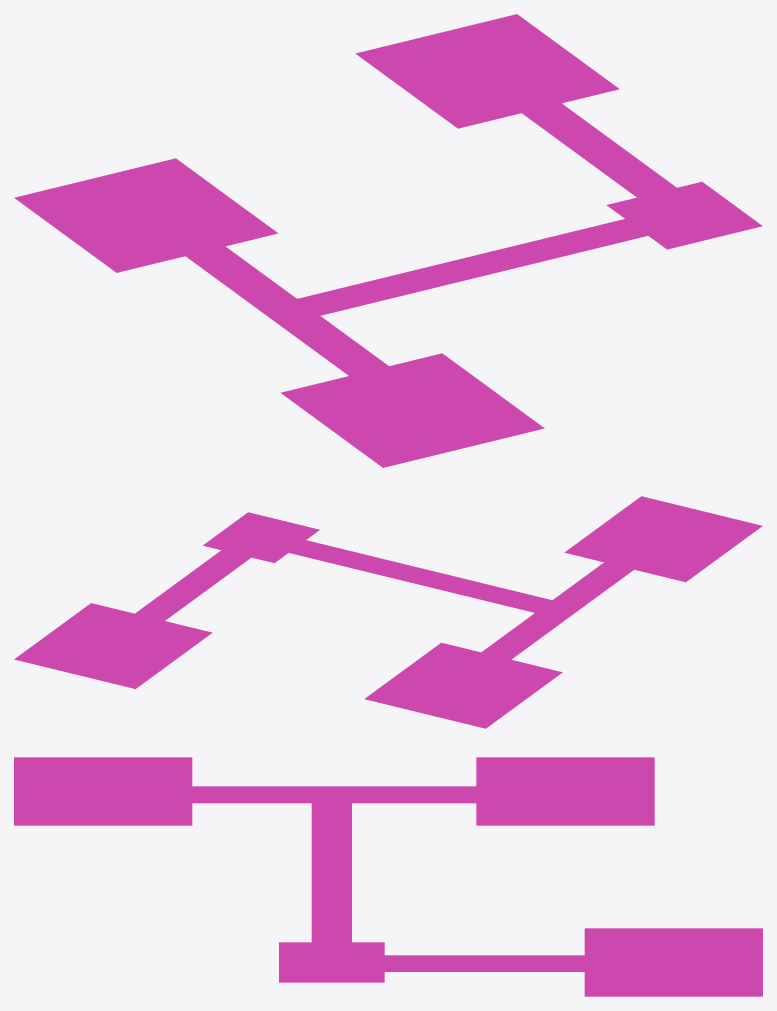
The model's file is envr_test3.glb.
The picture shows the model from 3 angles, top to bottom: view 1: azimuth 30°, elevation 25°; view 2: azimuth 150°, elevation 25°; view 3: azimuth 270°, elevation 25°; orthographic projection. The views are drawn at different scales.
Parts seen in each view (by area): view 1: Plane.003, Plane.006, Plane.005, Plane, Plane.004, Plane.001, Plane.002; view 2: Plane.003, Plane.005, Plane.006, Plane, Plane.004, Plane.001, Plane.002; view 3: Plane.005, Plane.003, Plane.006, Plane, Plane.004, Plane.001, Plane.002.
Part boxes in pixels (<box>): Plane.003: <box>355,14,619,128</box>; Plane.006: <box>280,353,544,467</box>; Plane.005: <box>14,158,278,272</box>; Plane: <box>297,218,649,315</box>; Plane.004: <box>184,245,390,377</box>; Plane.001: <box>606,182,762,249</box>; Plane.002: <box>520,103,677,198</box>; Plane.003: <box>14,603,212,688</box>; Plane.005: <box>364,642,562,728</box>; Plane.006: <box>564,496,762,582</box>; Plane: <box>288,540,551,612</box>; Plane.004: <box>481,561,635,659</box>; Plane.001: <box>203,512,319,562</box>; Plane.002: <box>135,550,250,621</box>; Plane.005: <box>476,757,654,825</box>; Plane.003: <box>584,928,762,996</box>; Plane.006: <box>14,757,192,825</box>; Plane: <box>311,803,351,942</box>; Plane.004: <box>187,786,477,803</box>; Plane.001: <box>279,942,384,982</box>; Plane.002: <box>382,955,586,971</box>.
Bounding box in the file's own units: 12.68 × 0 × 16.76.
